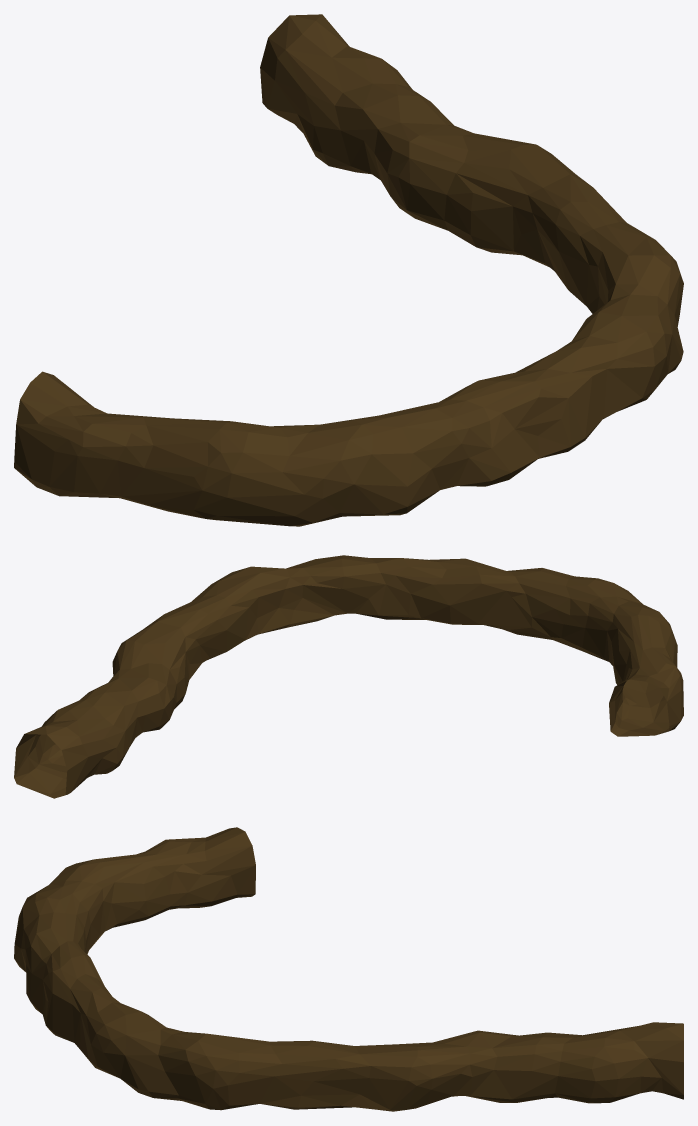
3 renders of one model, top to bottom at view 1: azimuth 30°, elevation 25°; view 2: azimuth 150°, elevation 25°; view 3: azimuth 270°, elevation 25°, orthographic. The views are drawn at different scales.
Parts seen in each view (by area): view 1: cave-col; view 2: cave-col; view 3: cave-col.
Boxes of the visible parts, left/top/right/bottom form: cave-col: left=14, top=14, right=683, bottom=526; cave-col: left=14, top=555, right=683, bottom=798; cave-col: left=14, top=827, right=683, bottom=1111.
Size of the model in its own units: 156 by 21.83 by 183.
